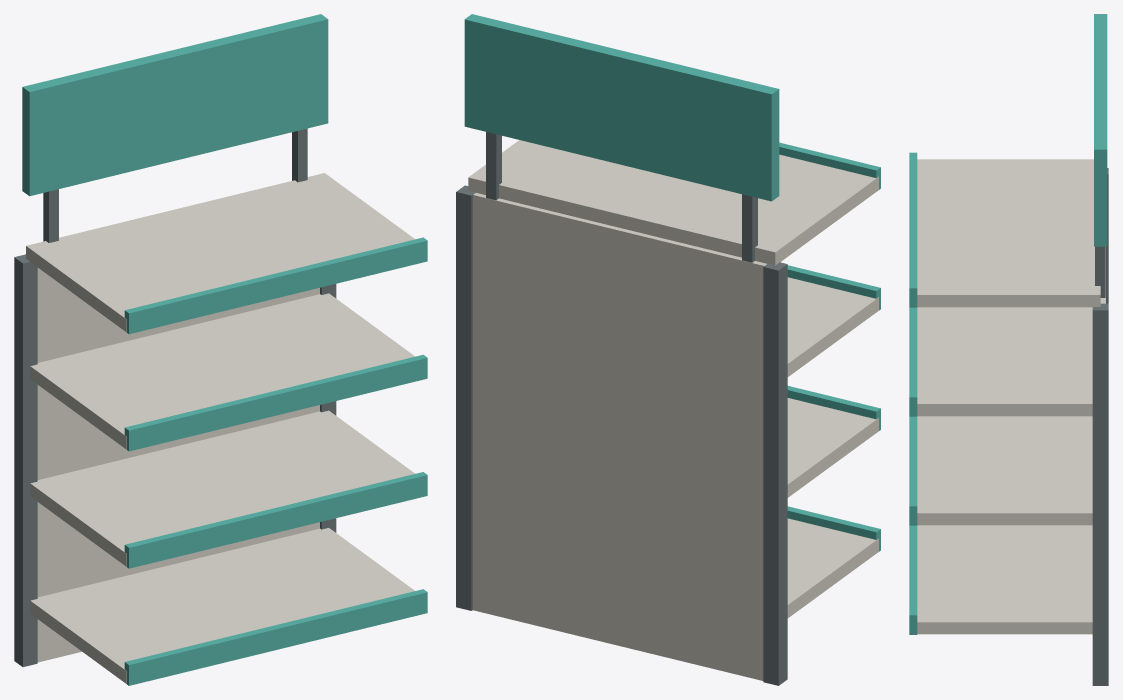
Rendered from supermarket-operations-endcap-shelving-26234c2c__26745.glb.
3 views of the same model, side by side, from view 1: azimuth 30°, elevation 25°; view 2: azimuth 150°, elevation 25°; view 3: azimuth 270°, elevation 25° (orthographic). The views are drawn at different scales.
Visible parts, largest first — view 1: endcap-shelving; view 2: endcap-shelving; view 3: endcap-shelving.
Boxes of the visible parts, x1,y1,x2,y2 form: endcap-shelving: (14, 14, 427, 685); endcap-shelving: (456, 14, 880, 685); endcap-shelving: (909, 14, 1108, 685).
Size of the model in its own units: 1.26 by 2.2 by 0.745.
